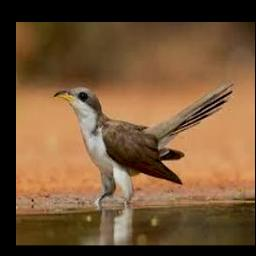Cuckoo: (53, 79, 234, 203)
